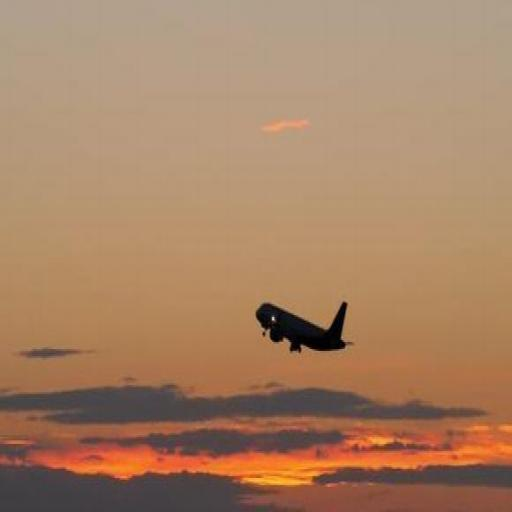aircraft: (252, 284, 356, 368)
